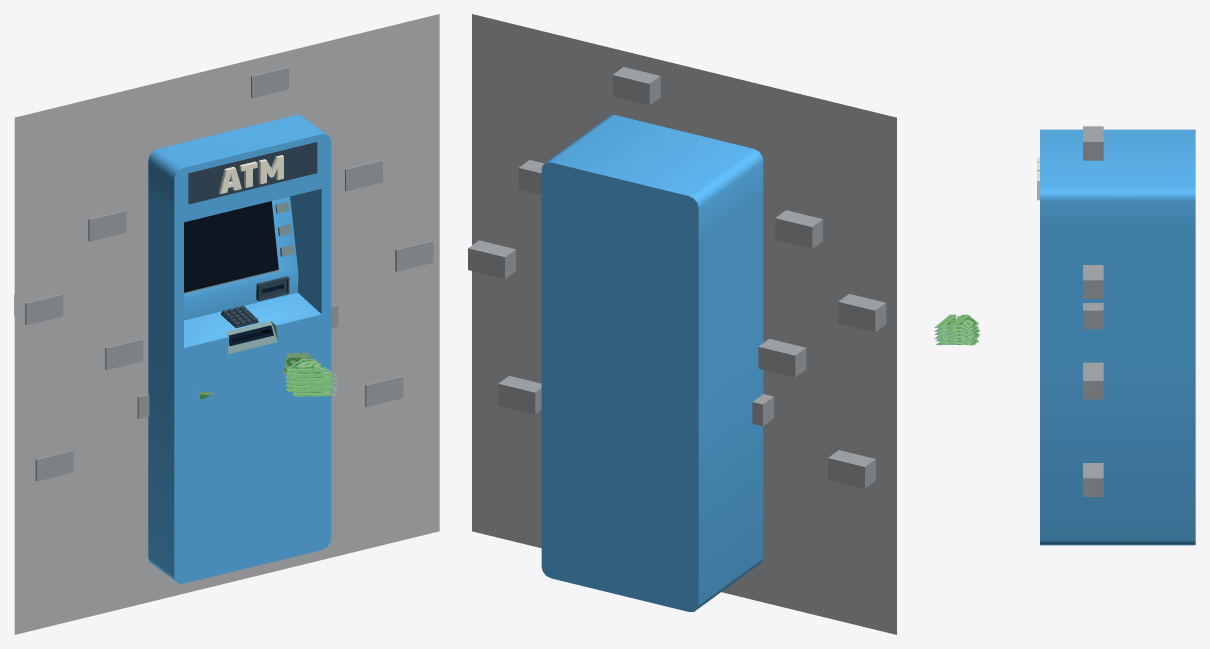
The model's file is ATM.fbx.
3 views of the same model, side by side, from view 1: azimuth 30°, elevation 25°; view 2: azimuth 150°, elevation 25°; view 3: azimuth 270°, elevation 25° (orthographic). The views are drawn at different scales.
Visible parts, largest first — view 1: ATM_Wall, Atm; view 2: ATM_Wall, Atm; view 3: Atm, ATM_Wall.
Boxes of the visible parts, x1,y1,x2,y2 form: ATM_Wall: (14,14,439,634); Atm: (148,115,331,583); ATM_Wall: (468,14,896,634); Atm: (541,115,763,611); Atm: (1037,129,1195,545); ATM_Wall: (1083,126,1103,496).
Size of the model in its own units: 662 by 771 by 426.
